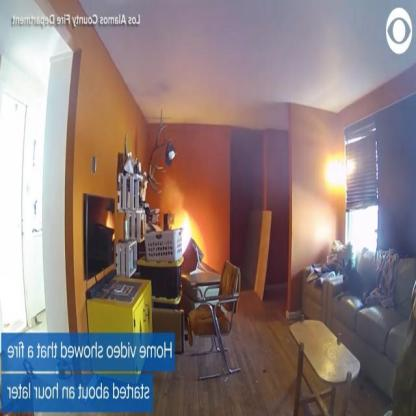Fire: (169, 208, 192, 257)
